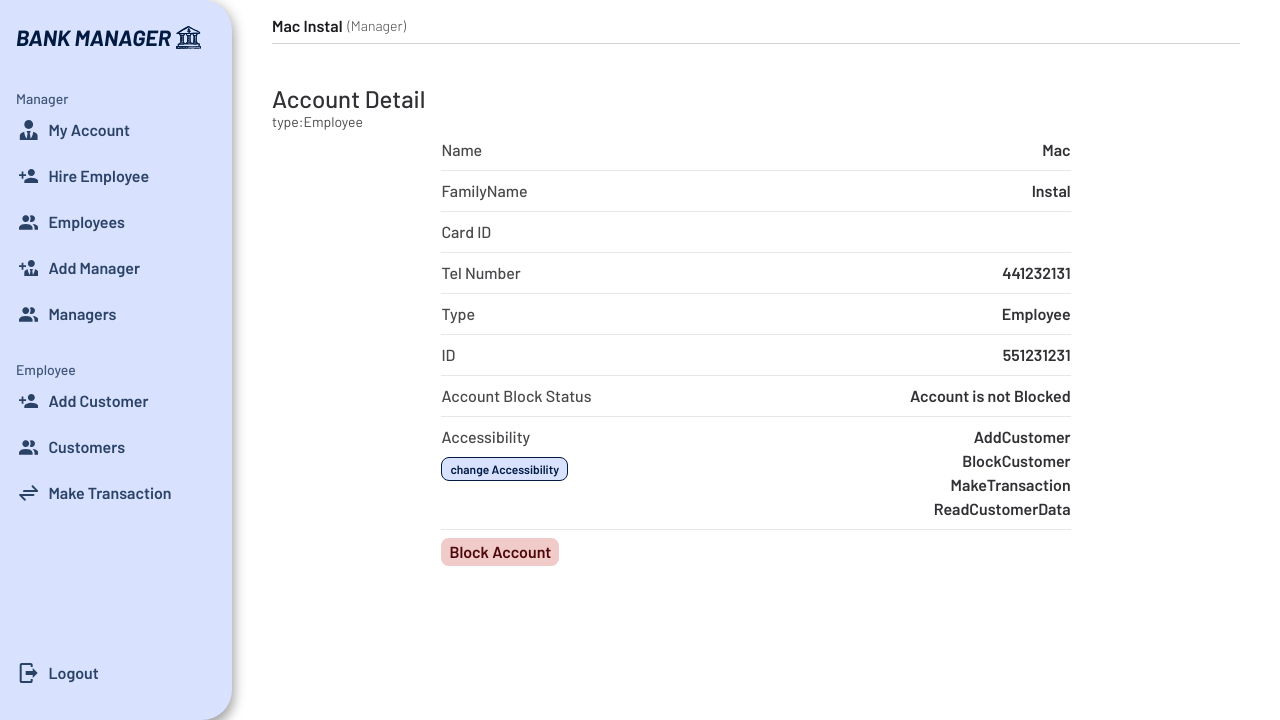
Scenario: blocking process › blocking or unBlocking will successfully with message
The width and height of the screenshot is (1280, 720).
Click the button with test id "dash-account-block-button". click: [500, 552]
box: [441, 538, 559, 566]
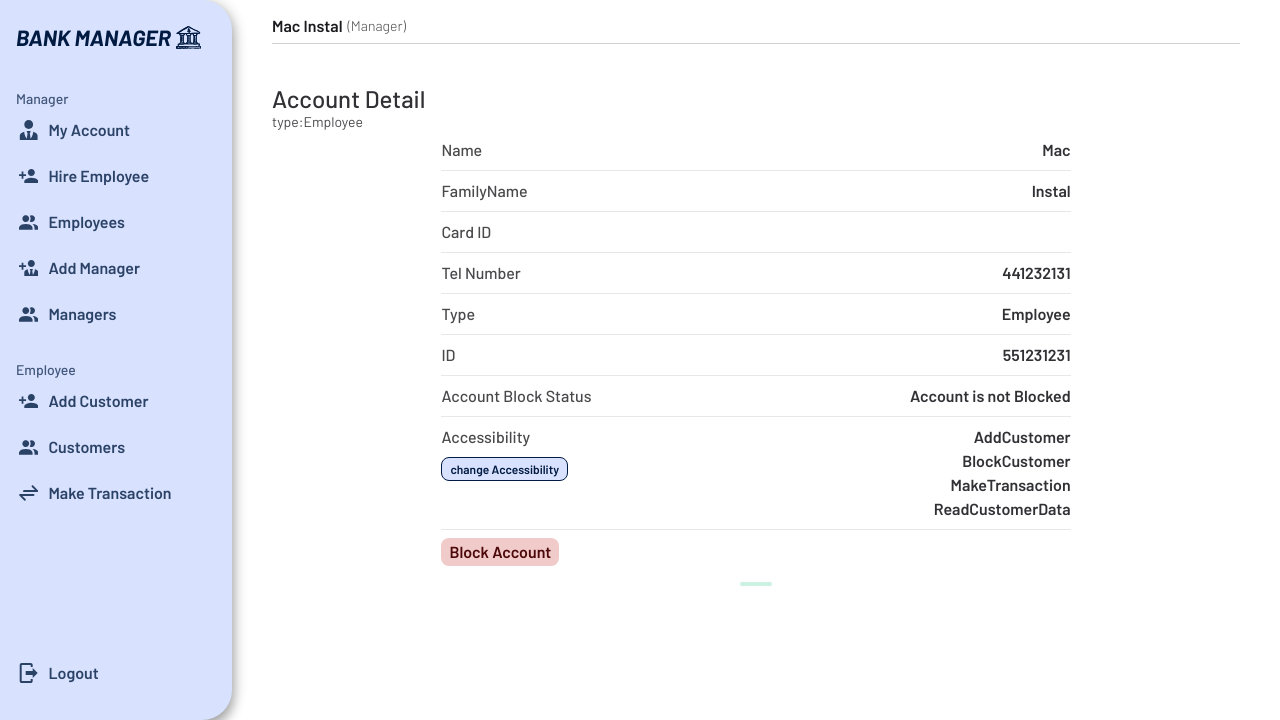
Expected: the element with test id "success-message" is shown, [740, 582, 772, 586]
